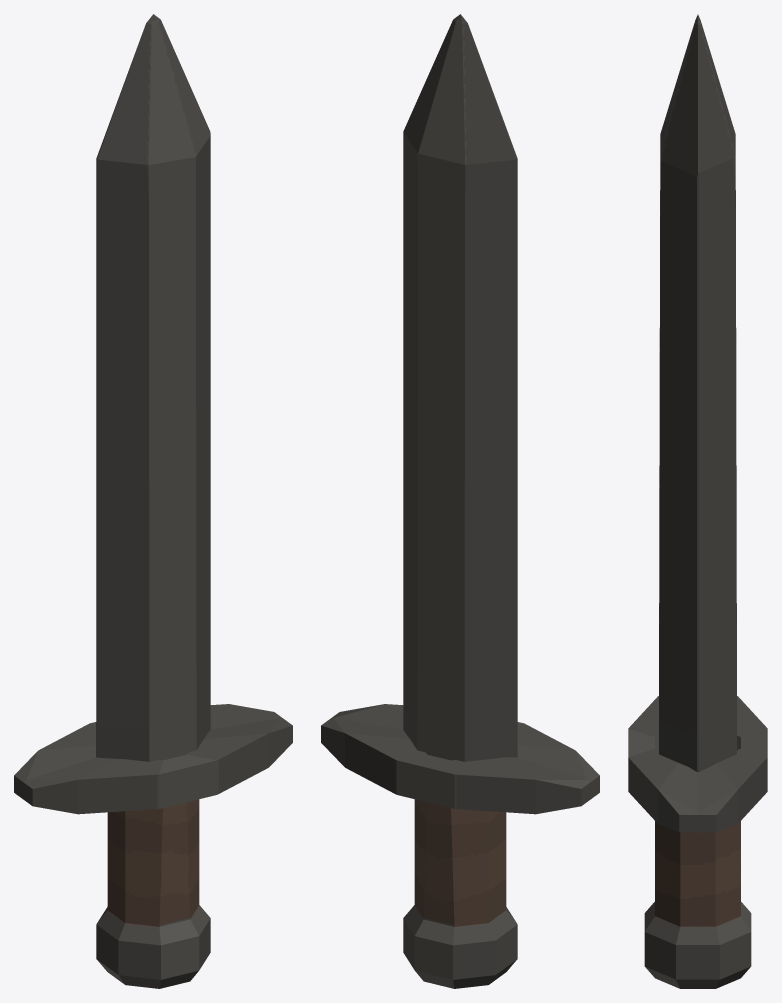
Rendered from Ashfell_Arming_Sword.gltf.
3 views of the same model, side by side, from view 1: azimuth 30°, elevation 25°; view 2: azimuth 150°, elevation 25°; view 3: azimuth 270°, elevation 25° (orthographic).
Parts seen in each view (by area): view 1: cylinder; view 2: cylinder; view 3: cylinder.
Boxes of the visible parts, x1,y1,x2,y2 form: cylinder: [14, 14, 292, 988]; cylinder: [321, 14, 599, 988]; cylinder: [628, 14, 767, 988].
Size of the model in its own units: 0.4936 by 1.73 by 0.229.
Materials: 1 (1 with a texture image).
